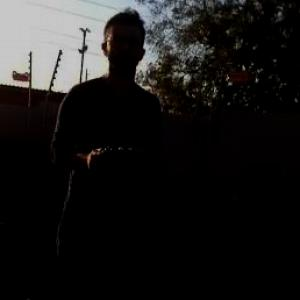follow: (43, 3, 167, 299)
